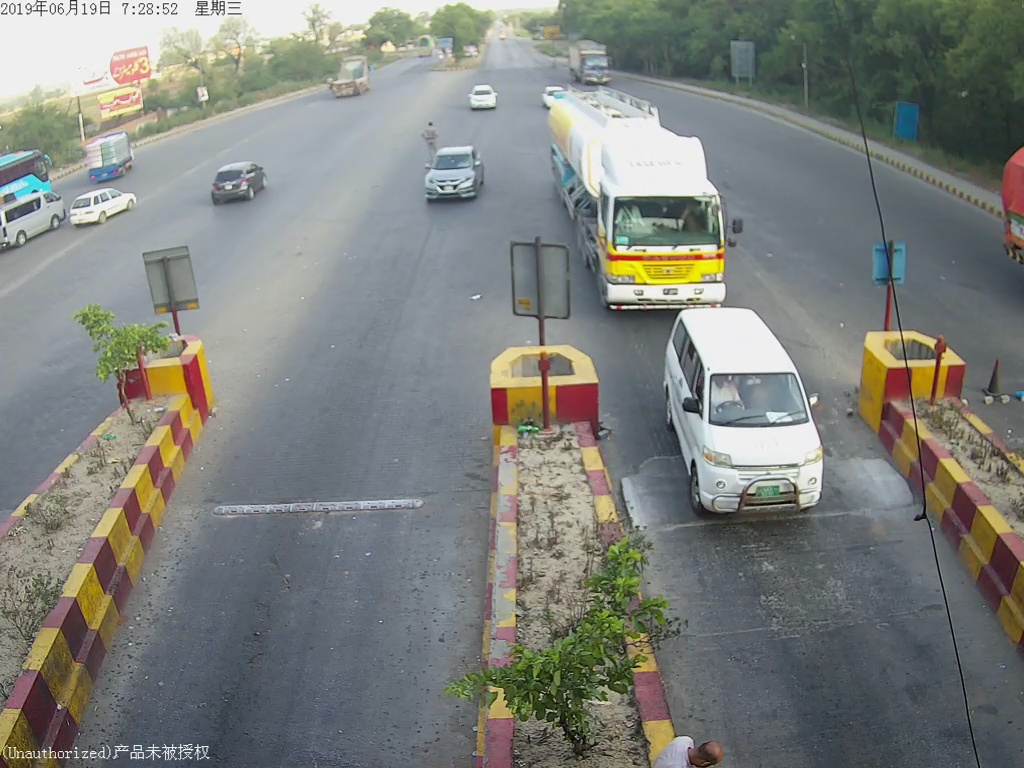Cat-1: (664, 314, 843, 521), (419, 147, 488, 205)
Cat-5: (581, 90, 738, 307)
